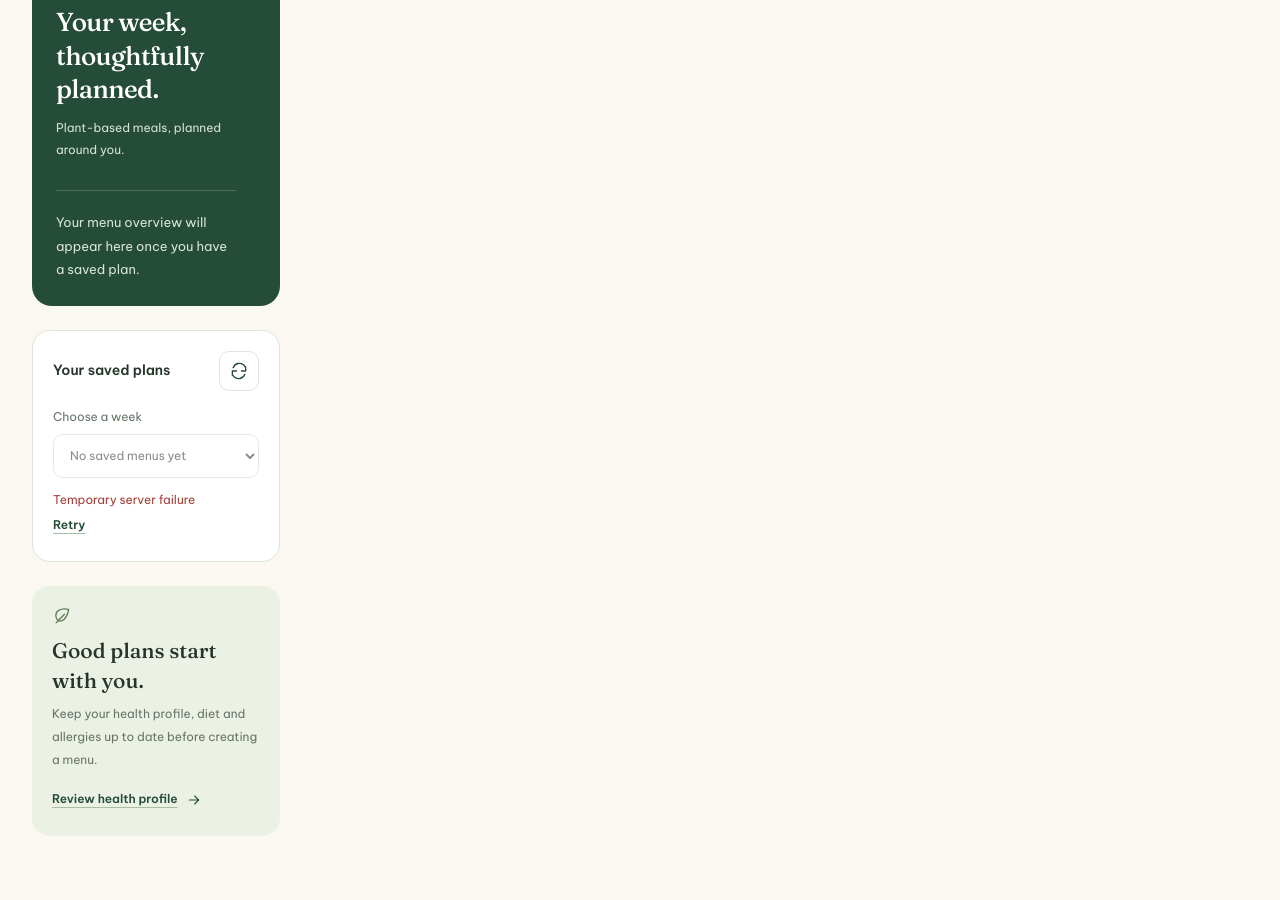
Scenario: distinguishes load failure from empty state and retries without generating a plan
The image size is (1280, 900).
(page scrolled)
Expected: the message "Temporary server failure Retry" is shown, left=53, top=492, right=195, bottom=541
Click the button "Retry" at (69, 525), box left=53, top=509, right=85, bottom=541
(page scrolled)
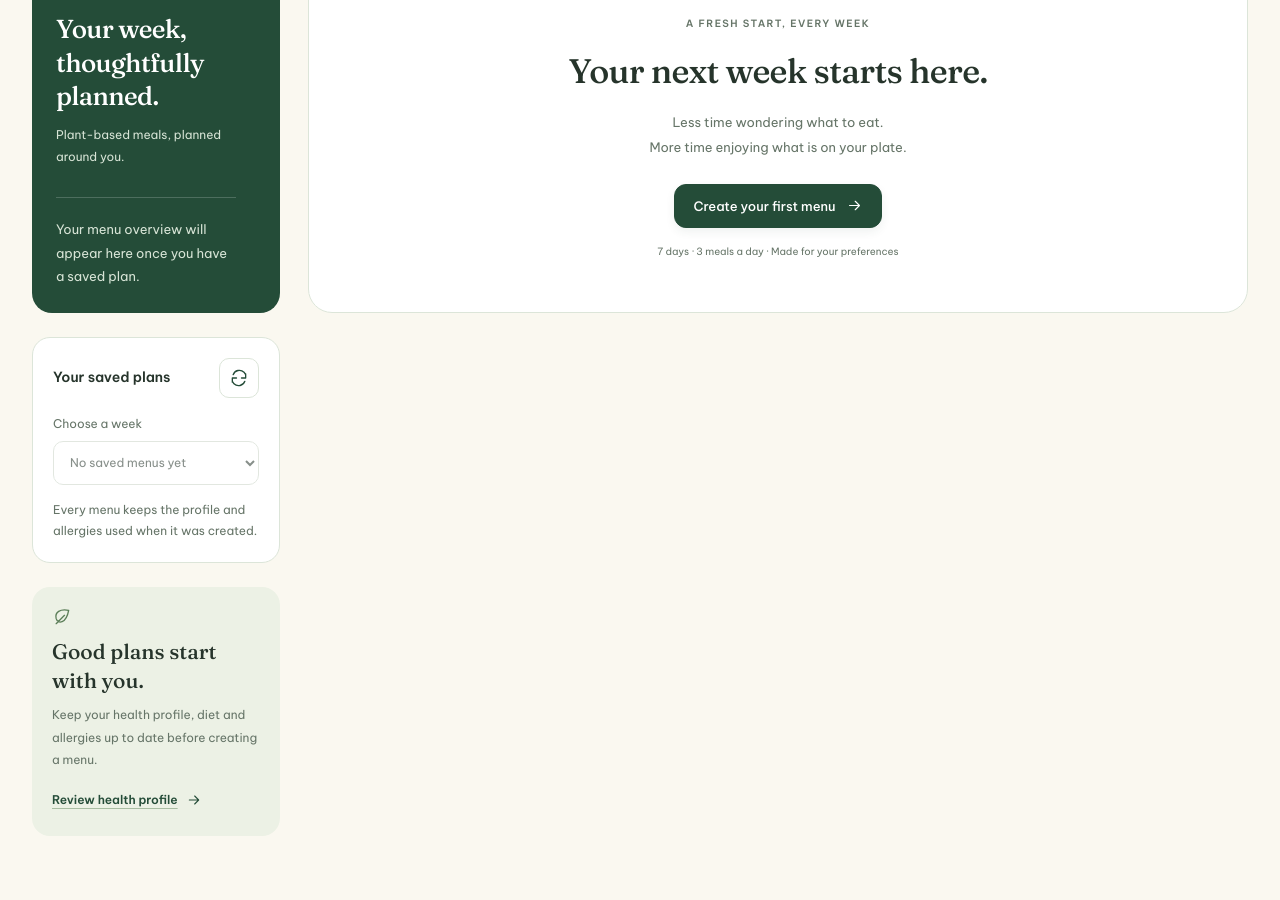
Expected: the text "Your next week starts here" is shown, left=568, top=50, right=987, bottom=92
